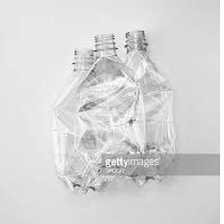bottle: (72, 32, 143, 193), (119, 28, 182, 187), (48, 46, 97, 196)
